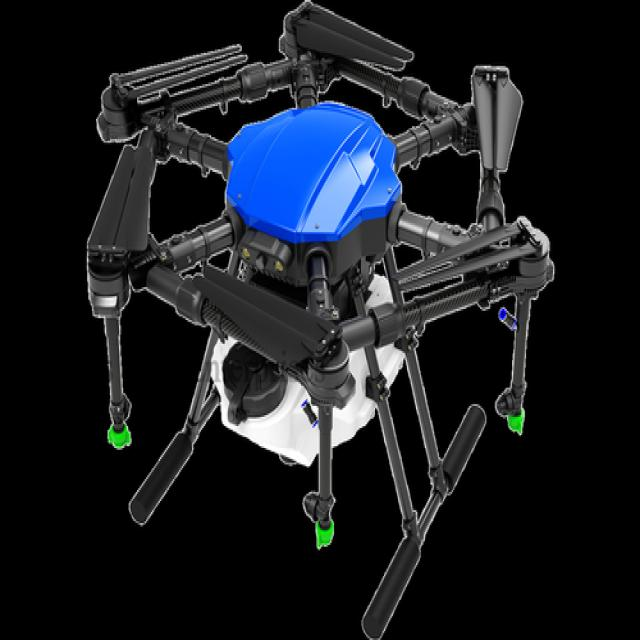drone: (76, 8, 570, 616)
